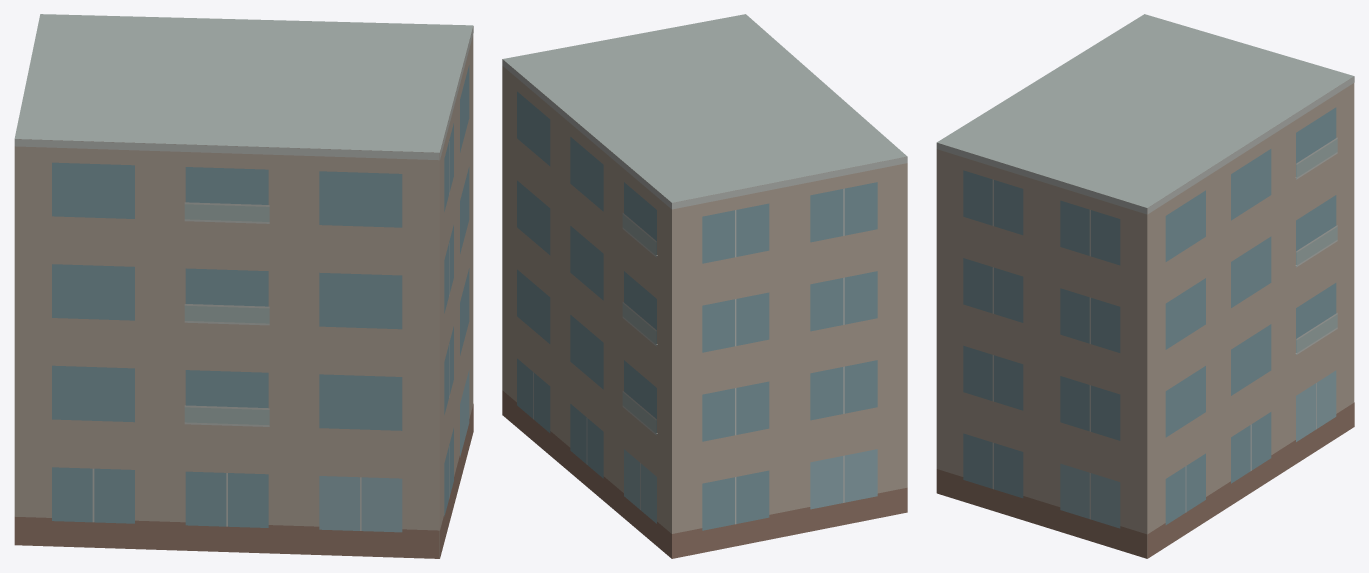
The model's file is survey-upis-32835154.glb.
3 views of the same model, side by side, from view 1: azimuth 30°, elevation 25°; view 2: azimuth 150°, elevation 25°; view 3: azimuth 270°, elevation 25° (orthographic). The views are drawn at different scales.
Parts seen in each view (by area): view 1: survey-upis-32835154.tmp; view 2: survey-upis-32835154.tmp; view 3: survey-upis-32835154.tmp.
Part boxes in pixels (box(x1,y1,x2,y2)): survey-upis-32835154.tmp: box(14, 14, 473, 558); survey-upis-32835154.tmp: box(502, 14, 907, 558); survey-upis-32835154.tmp: box(936, 14, 1354, 558).
Bounding box in the file's own units: 15.55 × 13.1 × 14.15.
